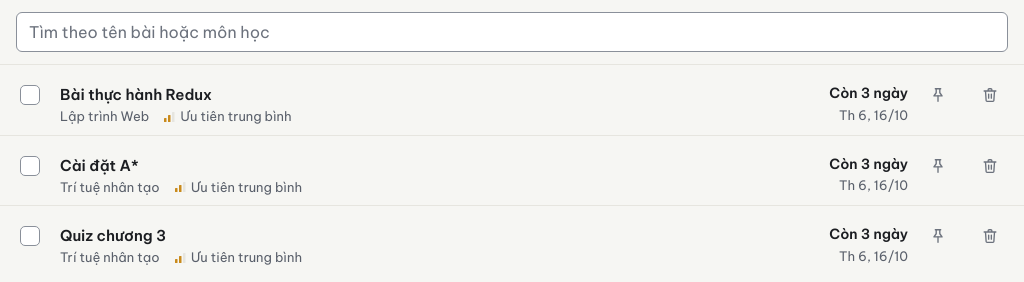
Test case: AssignmentList: tìm kiếm và ghim › lọc theo từ khoá (sau debounce); không có kết quả thì báo rõ
Type "trí tuệ" into the search field named "Tìm bài tập". click: (512, 32)
box: [16,12,1008,52]
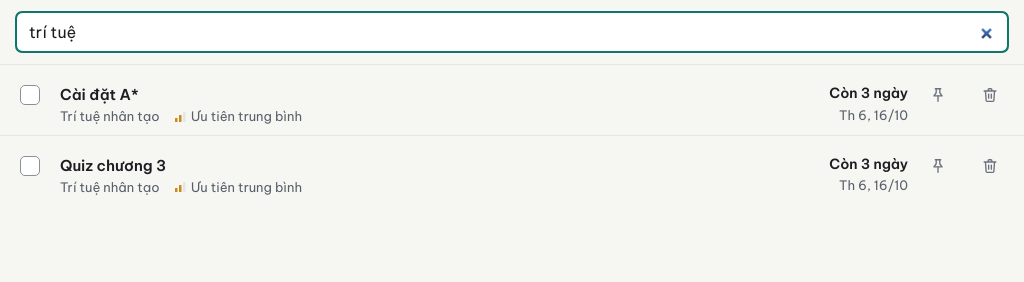
Check: the number of headings is 2, box [60,85,138,104]; [60,156,166,174]
Check: the heading "Bài thực hành Redux" is gone
Replace the text in the search field named "Tìm bài tập" with "java". click: (512, 32)
box: [16,12,1008,52]
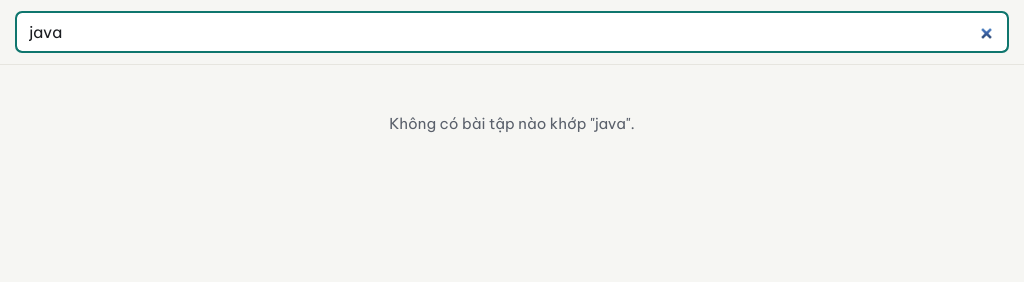
Check: the text "Không có bài tập nào khớp \"java\"." is shown, box [389,114,635,133]
